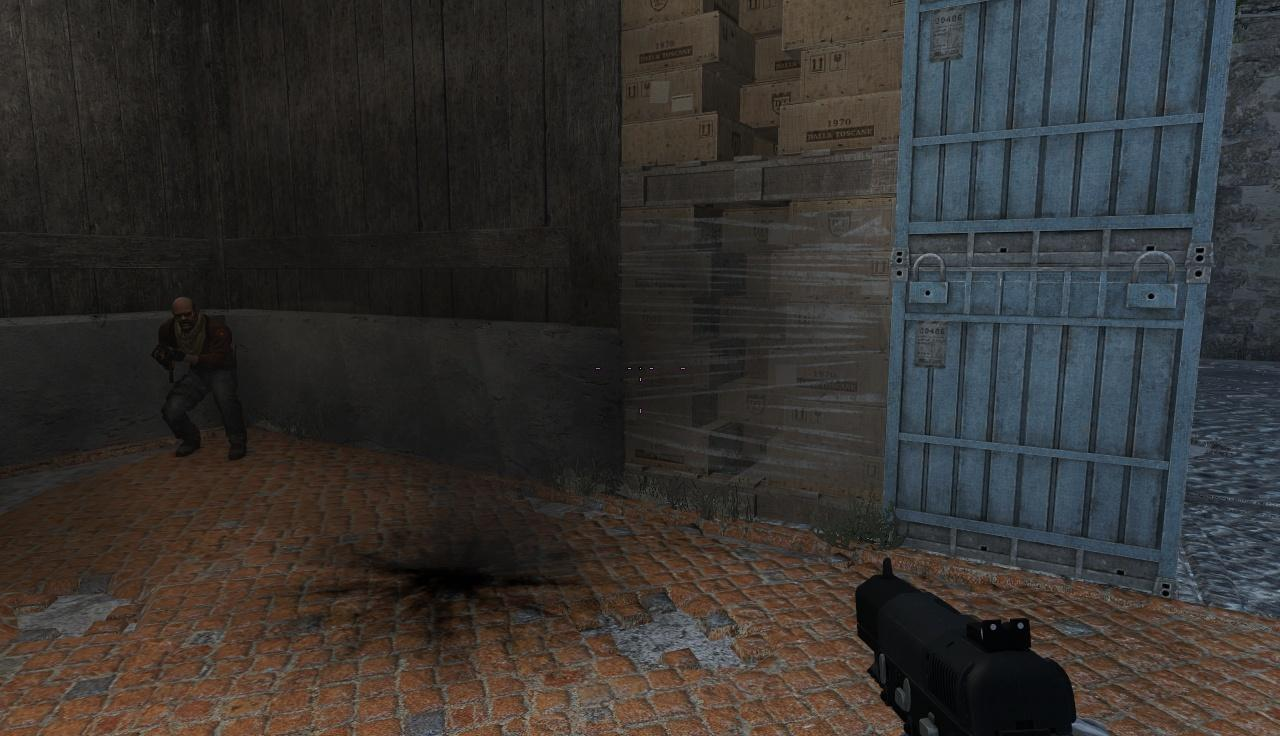pistol: (837, 556, 1091, 736)
tt: (155, 294, 239, 456)
tthead: (175, 297, 198, 327)
